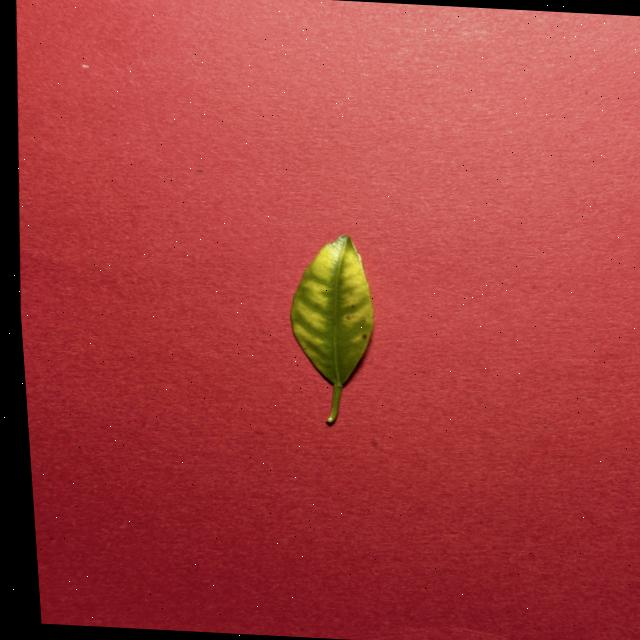greening: (291, 235, 373, 424)
